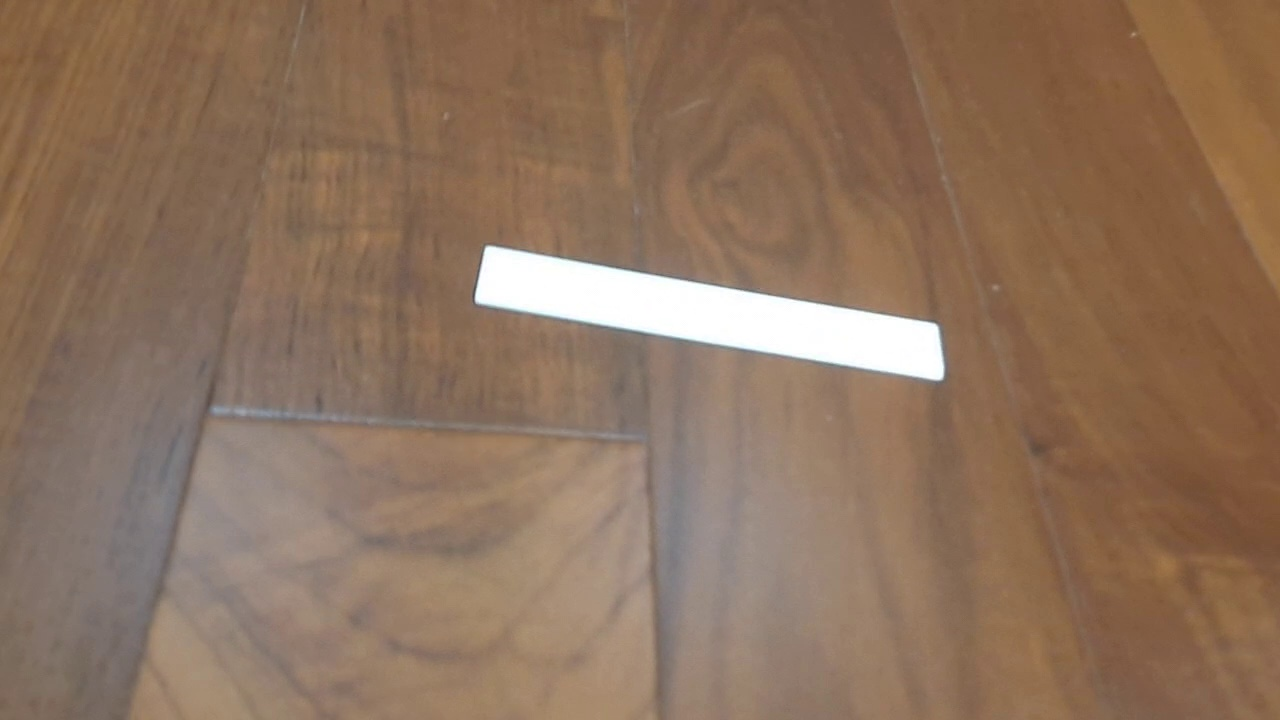ruler: (472, 243, 947, 384)
